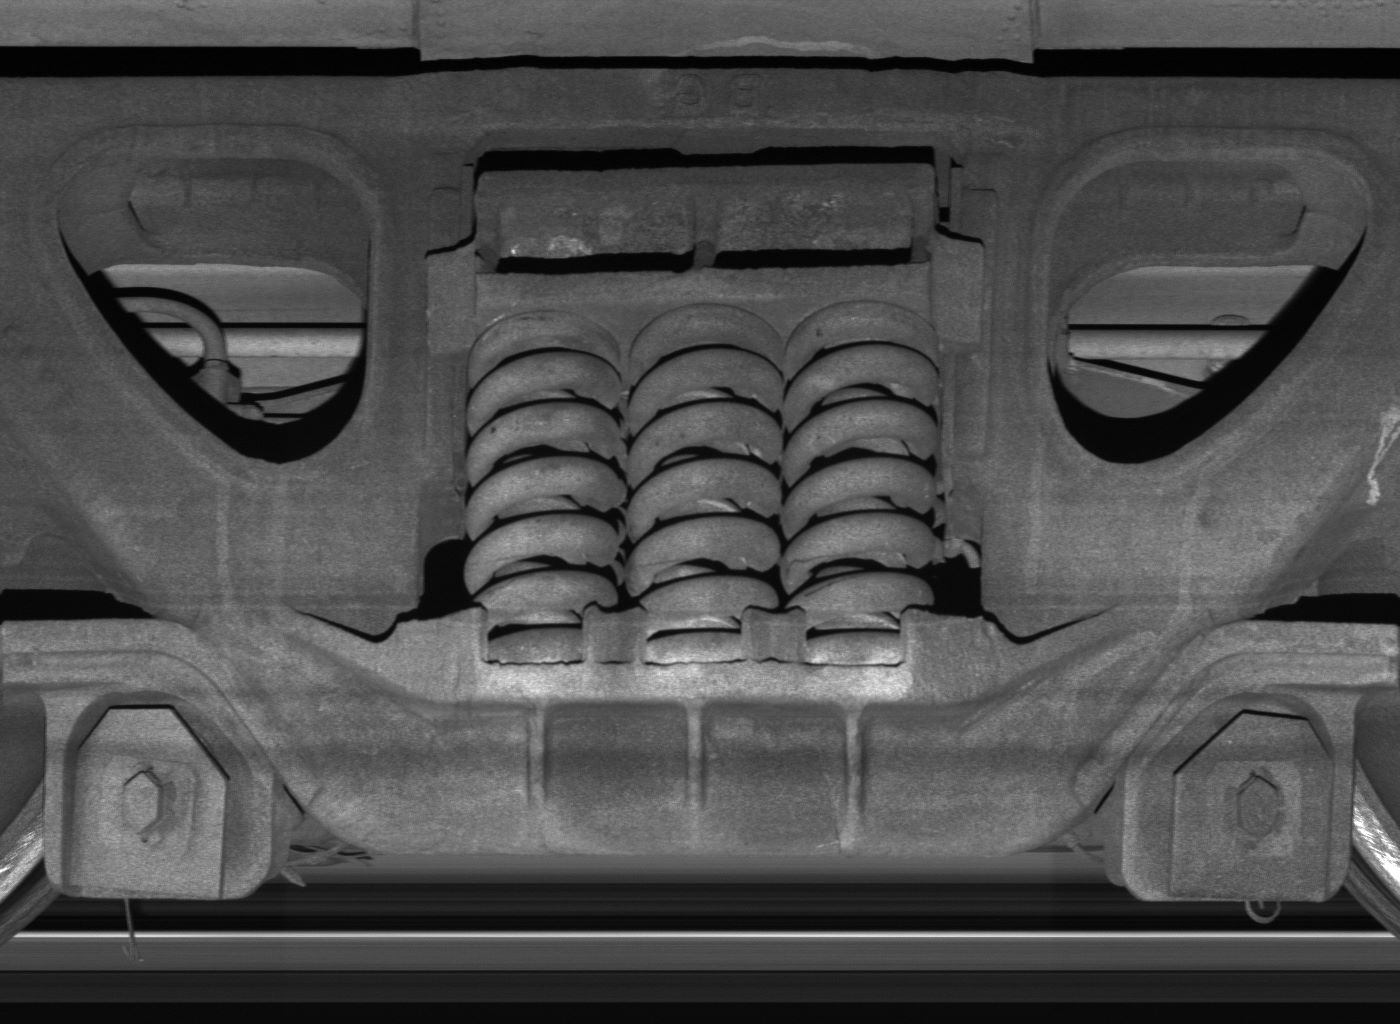normal: (1118, 695, 1350, 904), (43, 690, 273, 899)
